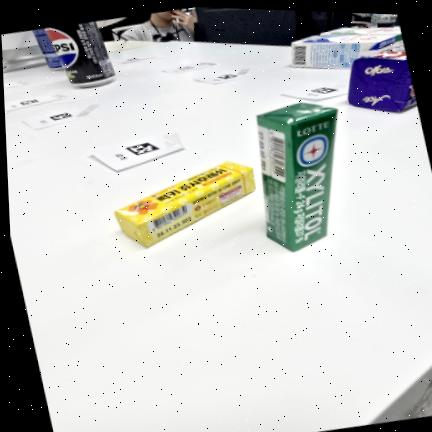gum_green: (257, 103, 337, 251)
gum_yellow: (115, 161, 255, 247)
